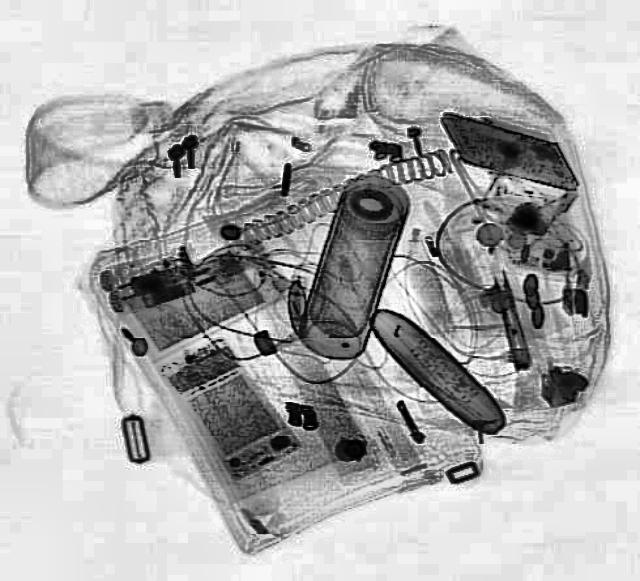Scissors: (486, 271, 530, 367)
